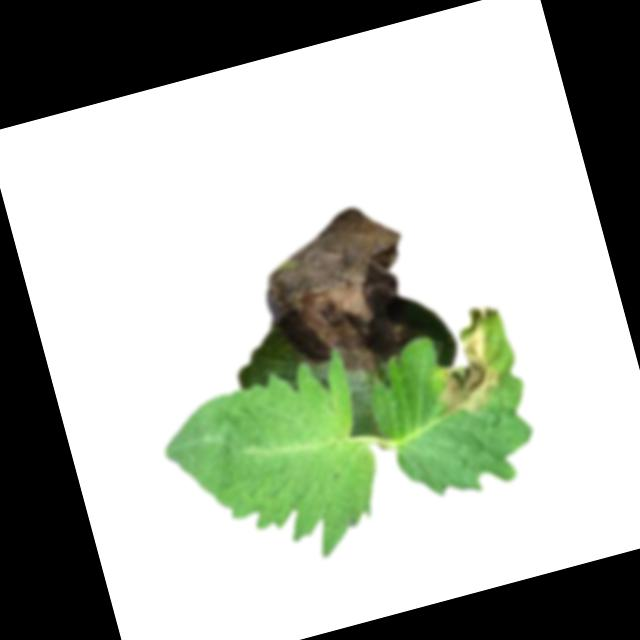Late_blight: (248, 192, 445, 391), (412, 299, 521, 421)
healthy: (149, 346, 397, 591)
